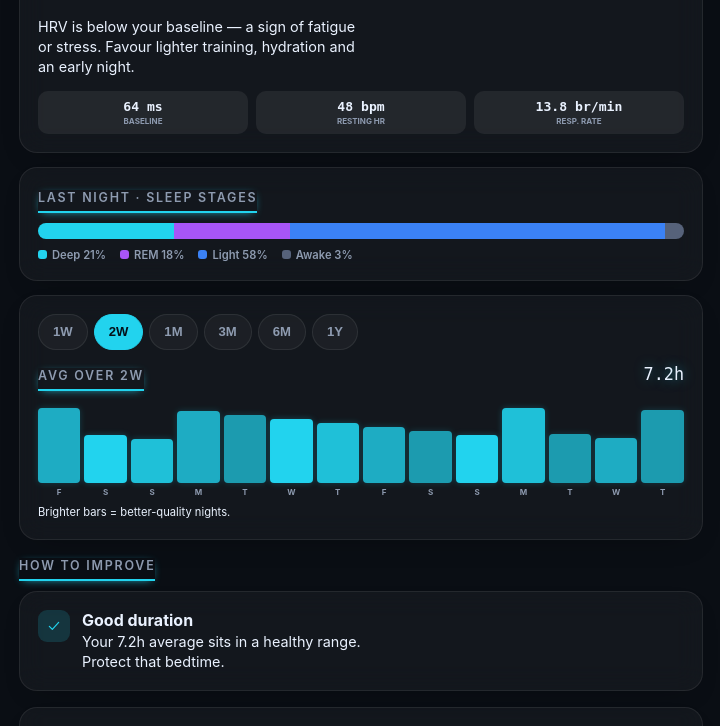
it: Sleep › switches the trend range
(page scrolled)
Click the button "1Y" at [335, 332], box x1=312 y1=314 x2=358 y2=350
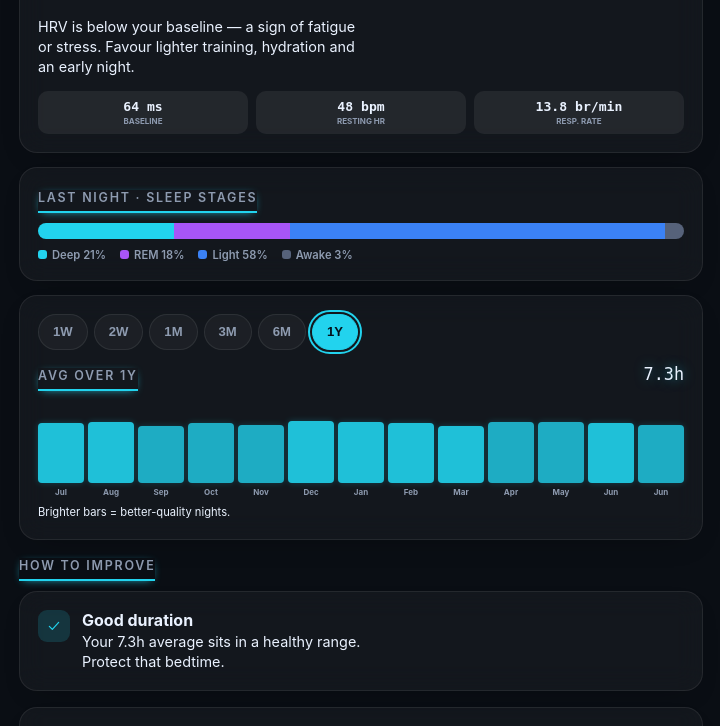
Expected: the text "Avg over 1Y" is shown, x1=38 y1=368 x2=138 y2=391
